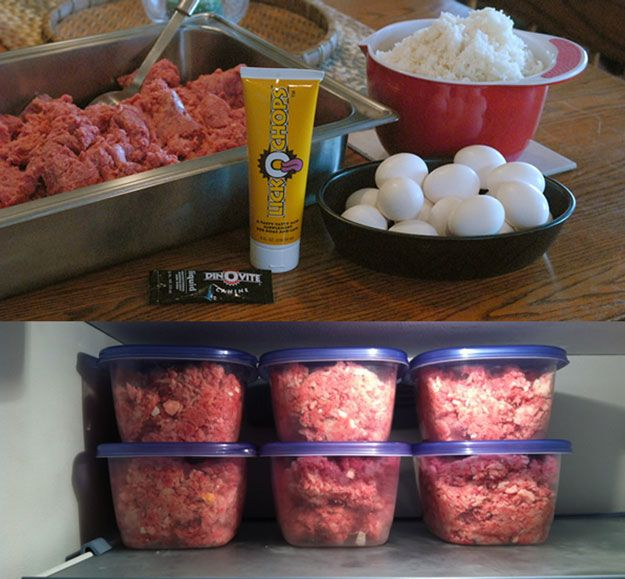ground_beef: (452, 464, 556, 536), (118, 464, 215, 532), (292, 468, 380, 538), (283, 374, 381, 436), (437, 386, 527, 449), (48, 105, 162, 153), (143, 371, 222, 439)
